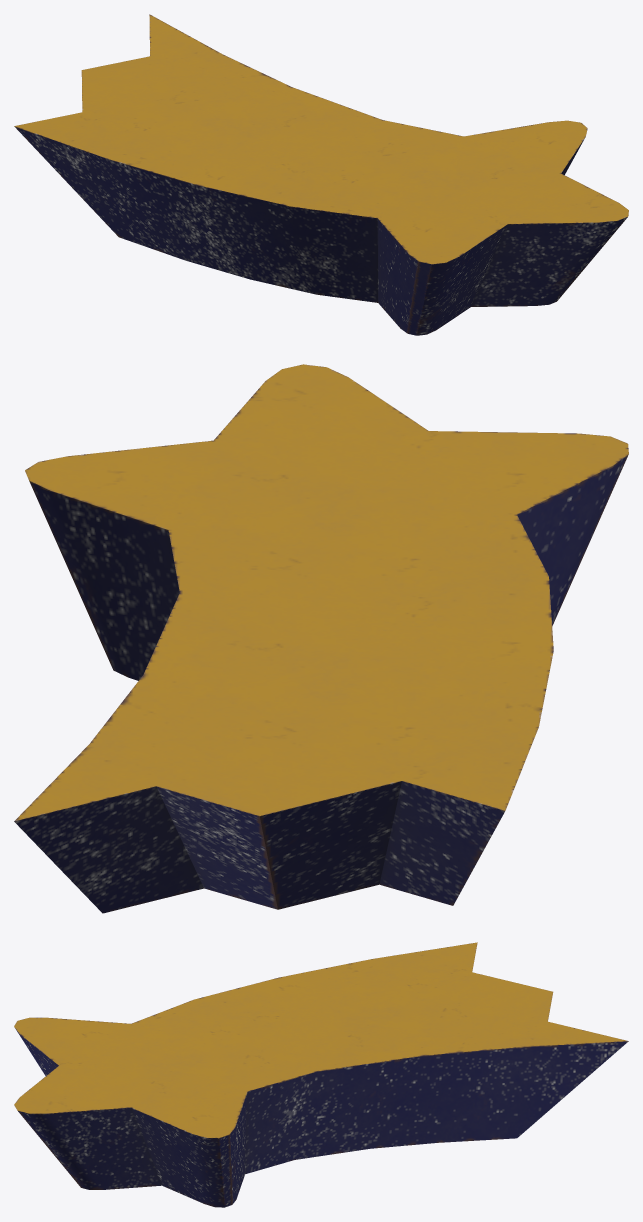
The model's file is PROP_052_StarTable.fbx.
The picture shows the model from 3 angles, top to bottom: view 1: azimuth 30°, elevation 25°; view 2: azimuth 150°, elevation 25°; view 3: azimuth 270°, elevation 25°; orthographic projection. The views are drawn at different scales.
Parts seen in each view (by area): view 1: Star.001; view 2: Star.001; view 3: Star.001.
Boxes of the visible parts, x1,y1,x2,y2 form: Star.001: (14, 14, 628, 335); Star.001: (14, 364, 628, 913); Star.001: (14, 942, 628, 1207).
Size of the model in its own units: 2.22 by 0.5 by 2.95.
Materials: 1 (1 with a texture image).
